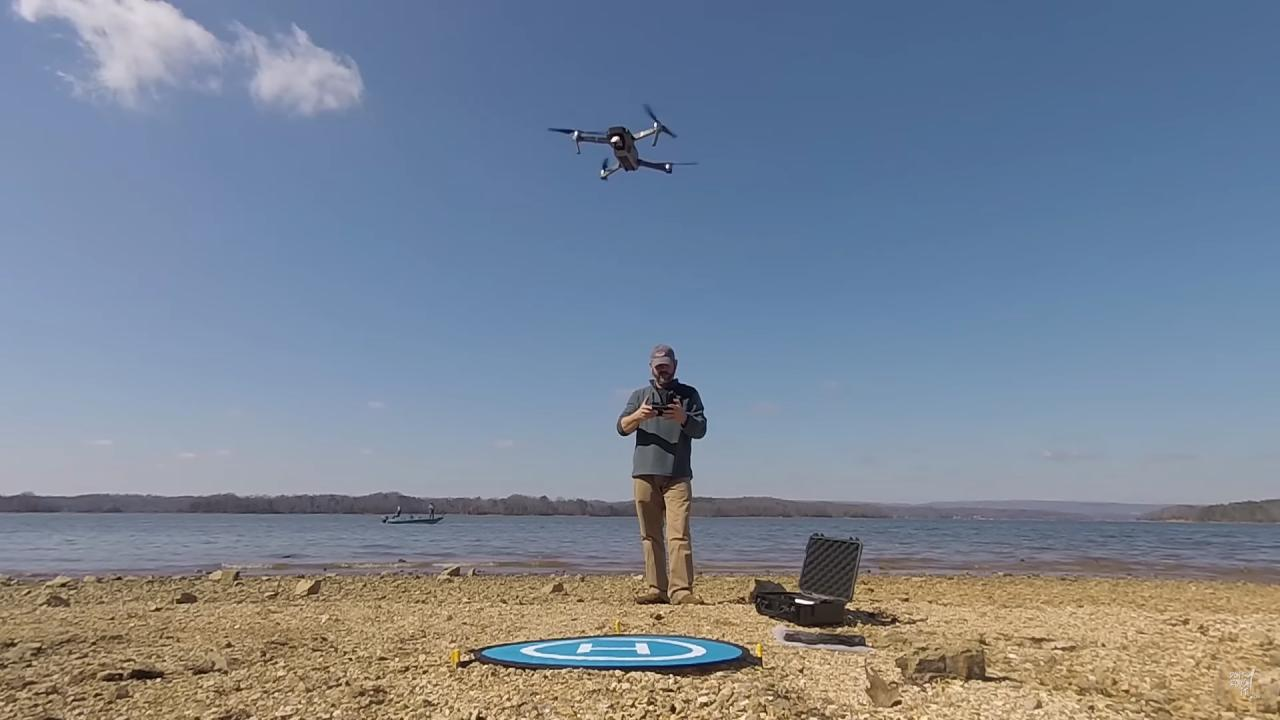Drone: (537, 87, 714, 197)
